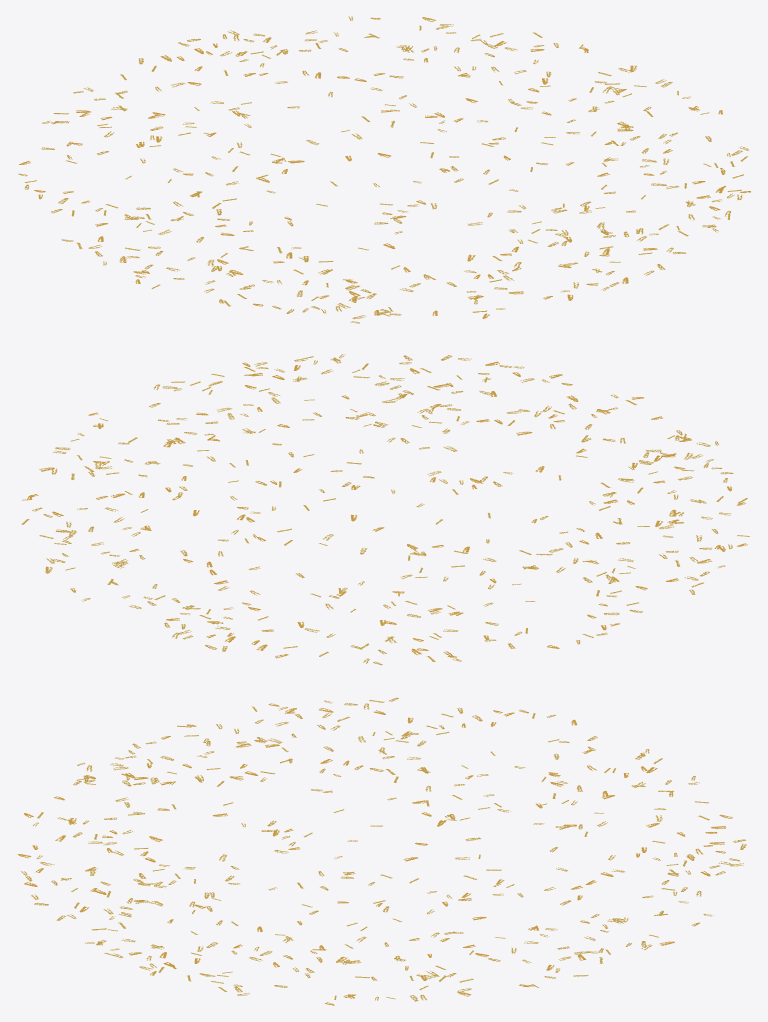
File: saule_adulte_d.fbx
The picture shows the model from 3 angles, top to bottom: view 1: azimuth 30°, elevation 25°; view 2: azimuth 150°, elevation 25°; view 3: azimuth 270°, elevation 25°; orthographic projection.
Visible parts, largest first — view 1: saule_adulte_d_feuilles_sol; view 2: saule_adulte_d_feuilles_sol; view 3: saule_adulte_d_feuilles_sol.
Boxes of the visible parts, x1,y1,x2,y2 form: saule_adulte_d_feuilles_sol: [18, 16, 750, 323]; saule_adulte_d_feuilles_sol: [21, 354, 749, 665]; saule_adulte_d_feuilles_sol: [18, 697, 746, 1005].
Size of what is drawn, in the model's own units: 20.19 by 0.00599 by 20.19.
